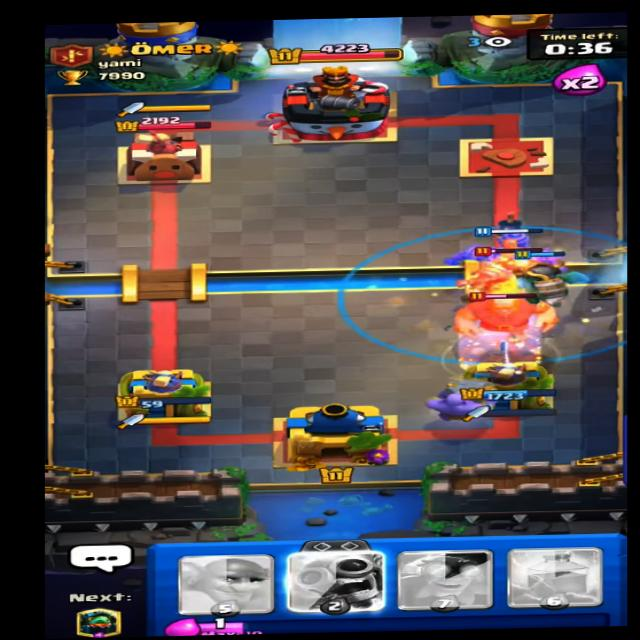giant: (452, 282, 561, 342)
goblin-machine: (448, 246, 556, 297)
